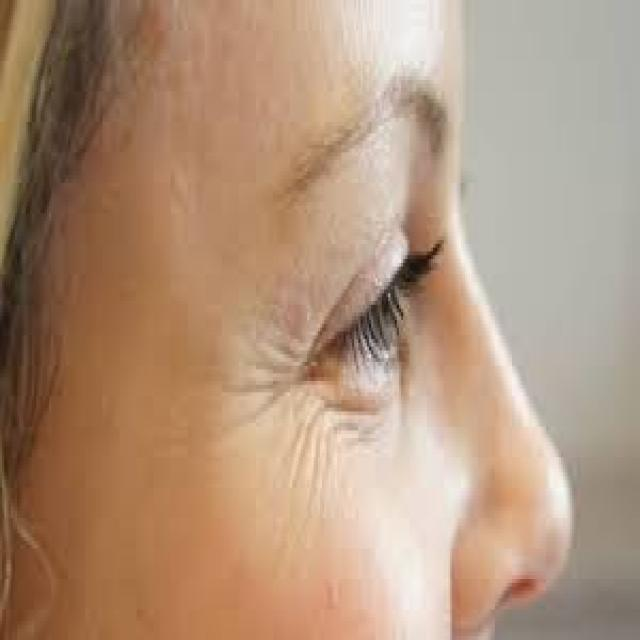Wrinkles: (215, 333, 336, 565)
